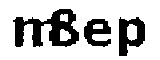8: (52, 7, 79, 48)
e: (83, 19, 113, 50)
m: (11, 13, 57, 48)
p: (114, 13, 150, 60)
